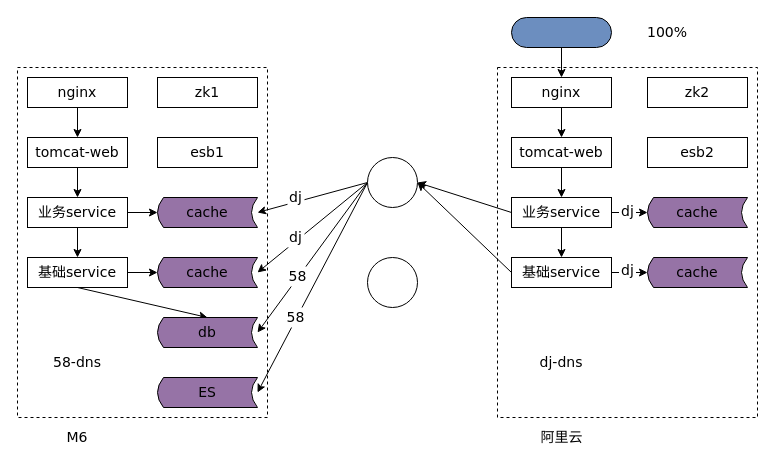
Image size: 775x465. Some labels were removed from this diagram. The shapes that lost their labels are listed below. From the top down, each one's box as (x1, y1, x2, y2) in pixels, then its label:
(510, 16, 612, 48): PC/APP
(366, 156, 418, 208): 专线
(366, 256, 418, 308): 公网
